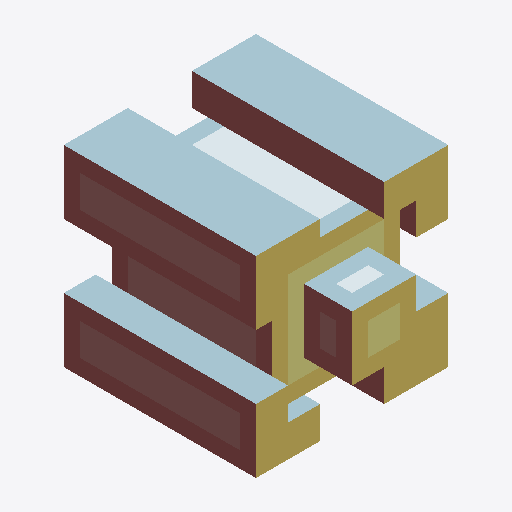
Isometric view (azimuth 45°, elevation 35.3°) of a Minecraft model made of 11 cuboids, textured from the same repository.
Visible parts, largest first — element 7, element 5, element 9, element 2, element 11, element 6, element 1, element 8, element 4, element 3.
Boxes of the visible parts, x1=… form: element 7: x1=64, y1=275, x2=287, y2=477; element 5: x1=64, y1=127, x2=287, y2=329; element 9: x1=112, y1=117, x2=399, y2=403; element 2: x1=192, y1=53, x2=415, y2=218; element 11: x1=304, y1=247, x2=415, y2=384; element 6: x1=224, y1=34, x2=447, y2=236; element 1: x1=96, y1=108, x2=319, y2=273; element 8: x1=416, y1=275, x2=447, y2=384; element 4: x1=352, y1=349, x2=415, y2=403; element 3: x1=288, y1=395, x2=319, y2=458.
Bounding box in the file's own units: 12 × 12 × 16.